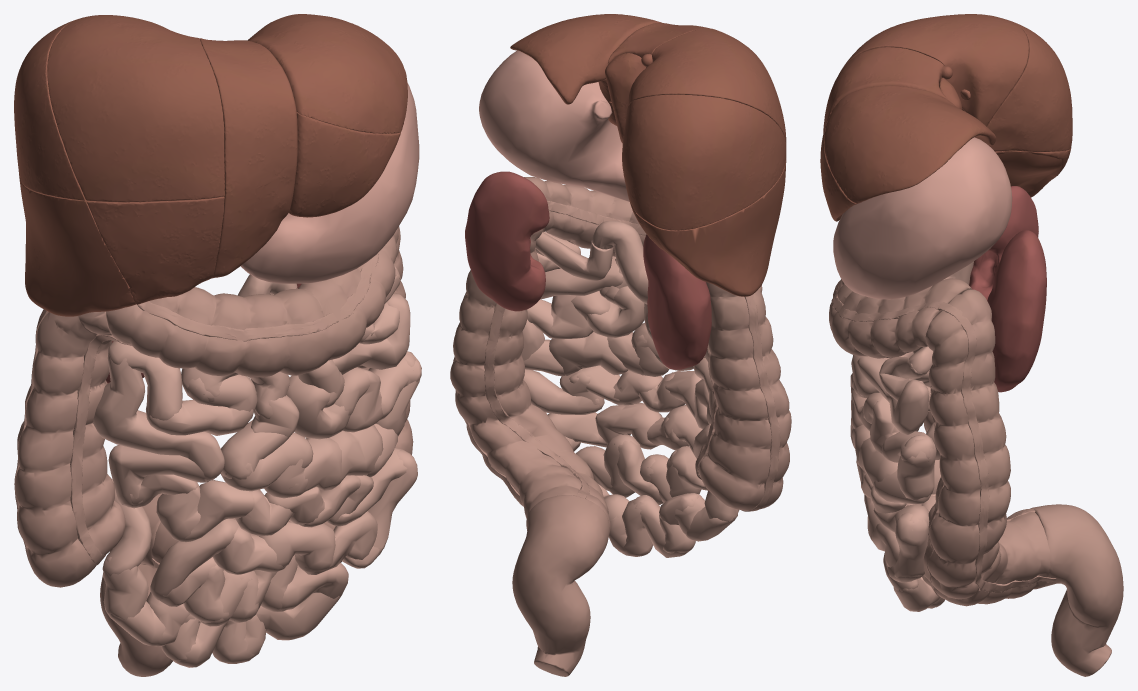
File: abdomen.glb
The picture shows the model from 3 angles, left to right: view 1: azimuth 30°, elevation 25°; view 2: azimuth 150°, elevation 25°; view 3: azimuth 270°, elevation 25°; orthographic projection. The views are drawn at different scales.
Visible parts, largest first — view 1: grp1 (×64); view 2: grp1 (×51); view 3: grp1 (×29).
Part boxes in pixels (<box>): grp1 (×64): <box>14,14,421,676</box>; grp1 (×51): <box>450,14,791,676</box>; grp1 (×29): <box>820,14,1123,676</box>.
Size of the model in its own units: 1.61 by 2.8 by 1.26.
